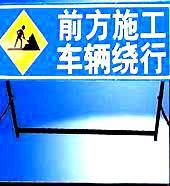sign: (1, 3, 168, 80)
